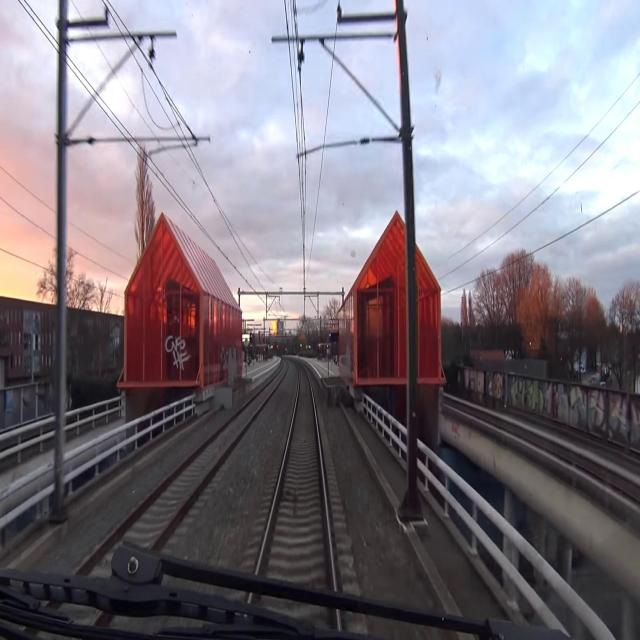rail-track: (85, 363, 285, 569), (262, 366, 331, 580)
